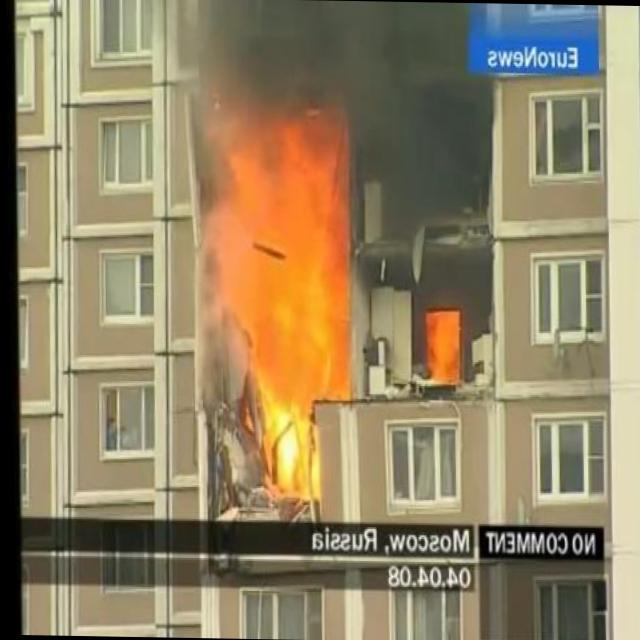fire: (196, 71, 355, 489), (419, 309, 457, 386)
